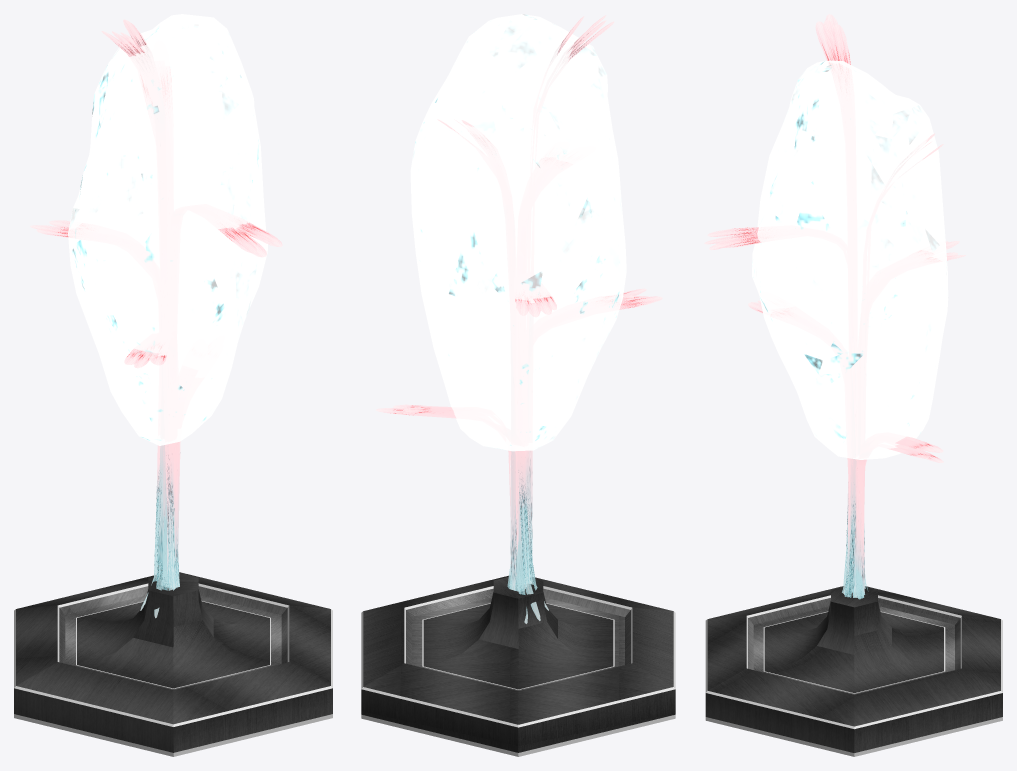
File: propBlobTree.glb
The picture shows the model from 3 angles, left to right: view 1: azimuth 30°, elevation 25°; view 2: azimuth 150°, elevation 25°; view 3: azimuth 270°, elevation 25°; orthographic projection. The views are drawn at different scales.
Parts seen in each view (by area): view 1: propBlobTree, SM_Planter_Hexagon.008_M_Base_Black.018_0, Point.061_M_Tree.003_0, SM_Planter_Hexagon.008_M_Base_DarkGrey.024_0, SM_Planter_Hexagon.008_M_Emissive_Commercial.008_0; view 2: propBlobTree, SM_Planter_Hexagon.008_M_Base_Black.018_0, Point.061_M_Tree.003_0, SM_Planter_Hexagon.008_M_Emissive_Commercial.008_0, SM_Planter_Hexagon.008_M_Base_DarkGrey.024_0; view 3: propBlobTree, SM_Planter_Hexagon.008_M_Base_Black.018_0, Point.061_M_Tree.003_0, SM_Planter_Hexagon.008_M_Emissive_Commercial.008_0, SM_Planter_Hexagon.008_M_Base_DarkGrey.024_0.
Part boxes in pixels (<box>): propBlobTree: <box>68,14,267,445</box>; SM_Planter_Hexagon.008_M_Base_Black.018_0: <box>14,572,332,752</box>; Point.061_M_Tree.003_0: <box>30,19,282,618</box>; SM_Planter_Hexagon.008_M_Base_DarkGrey.024_0: <box>59,586,287,689</box>; SM_Planter_Hexagon.008_M_Emissive_Commercial.008_0: <box>14,583,332,756</box>; propBlobTree: <box>410,14,626,451</box>; SM_Planter_Hexagon.008_M_Base_Black.018_0: <box>361,575,675,752</box>; Point.061_M_Tree.003_0: <box>375,15,662,623</box>; SM_Planter_Hexagon.008_M_Emissive_Commercial.008_0: <box>361,586,675,756</box>; SM_Planter_Hexagon.008_M_Base_DarkGrey.024_0: <box>406,588,630,690</box>; propBlobTree: <box>752,60,948,459</box>; SM_Planter_Hexagon.008_M_Base_Black.018_0: <box>705,586,1002,752</box>; Point.061_M_Tree.003_0: <box>704,14,965,599</box>; SM_Planter_Hexagon.008_M_Emissive_Commercial.008_0: <box>705,595,1002,756</box>; SM_Planter_Hexagon.008_M_Base_DarkGrey.024_0: <box>748,598,960,694</box>.
Size of the model in its own units: 3.16 by 6.44 by 2.75.
Materials: 5 (4 with a texture image).
